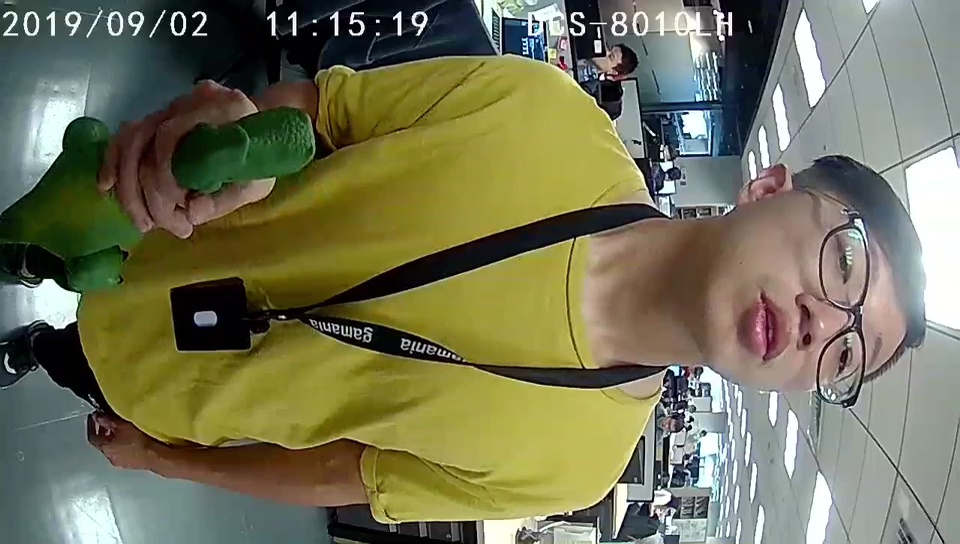rex: (53, 107, 313, 290)
